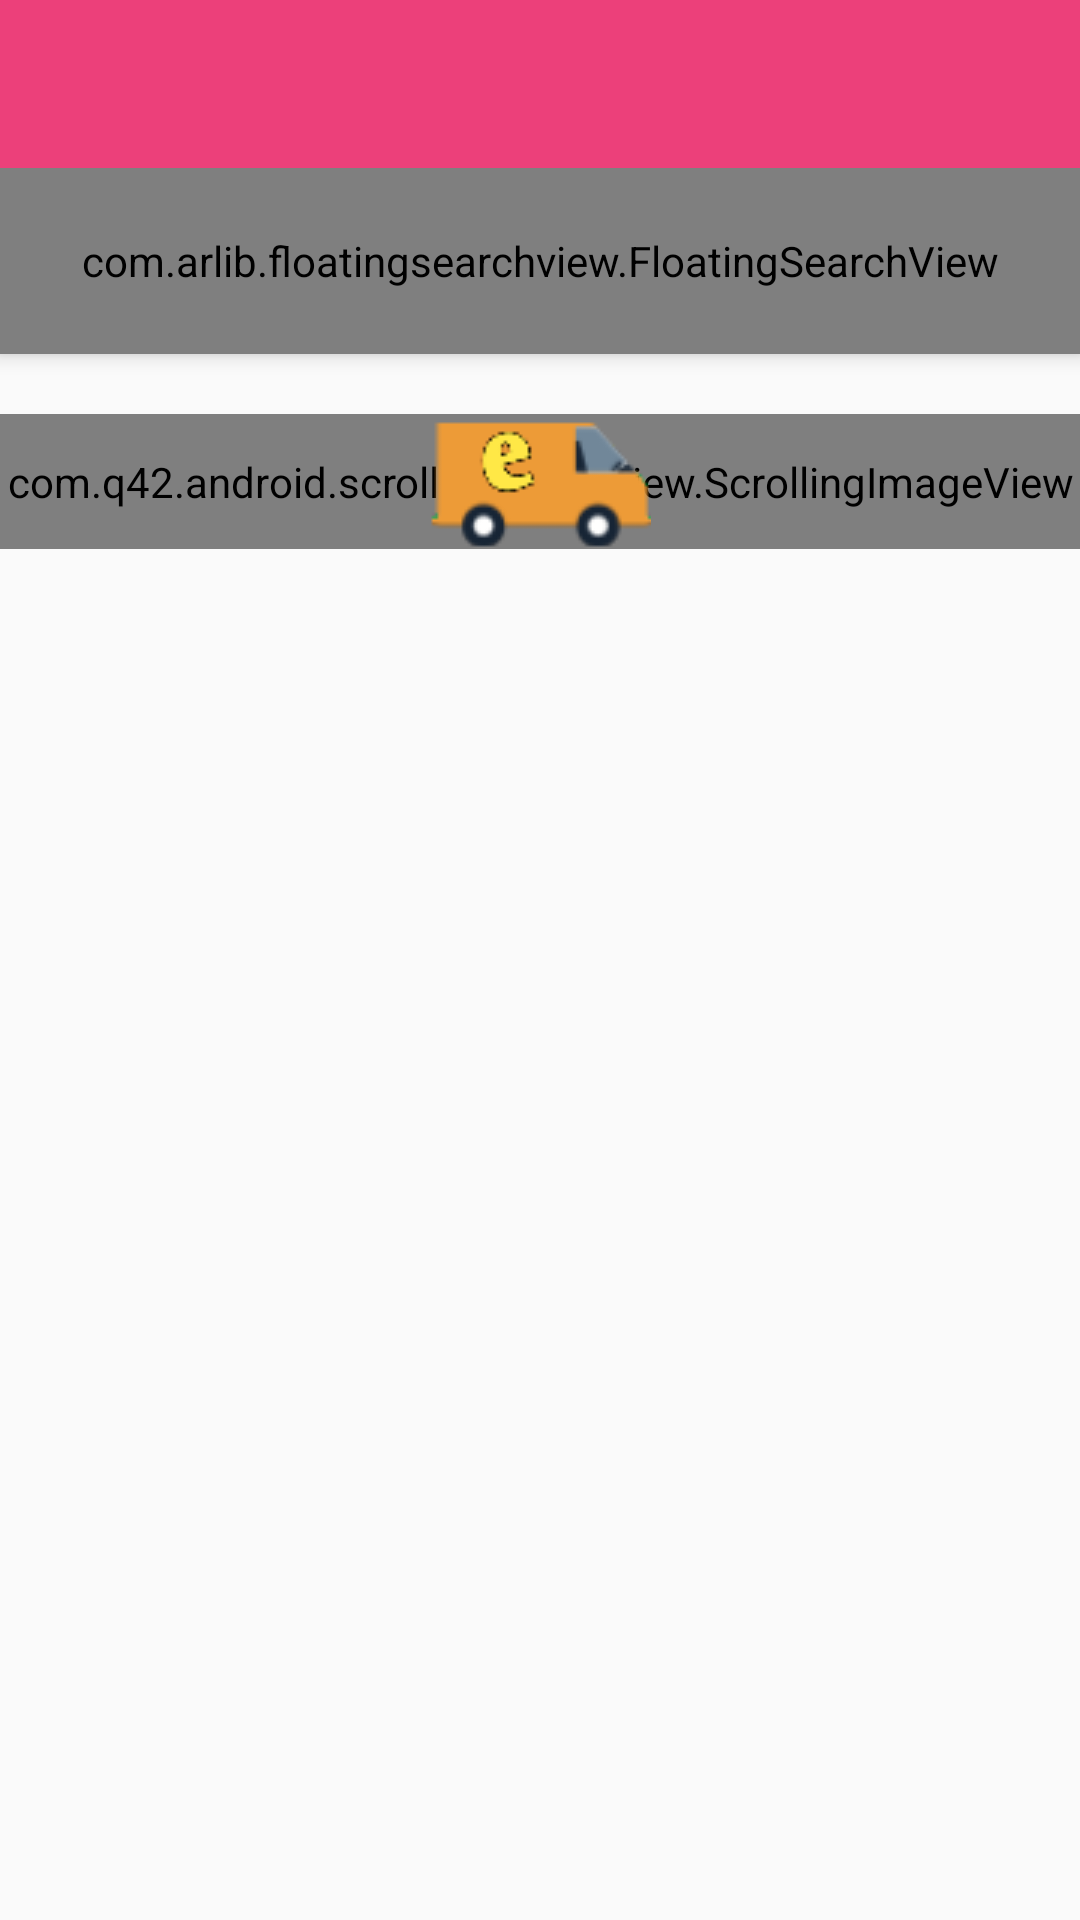

Icons on this 1080 x 1920 Android screen, each with the point to tap as point (x, y):
truck: point (541, 484)
